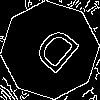D: (25, 25, 83, 83)
